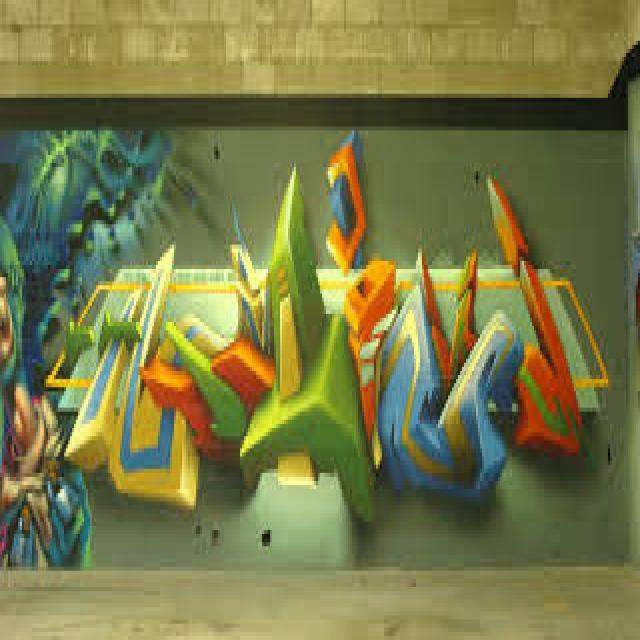-: (46, 122, 610, 514), (0, 122, 173, 574)
